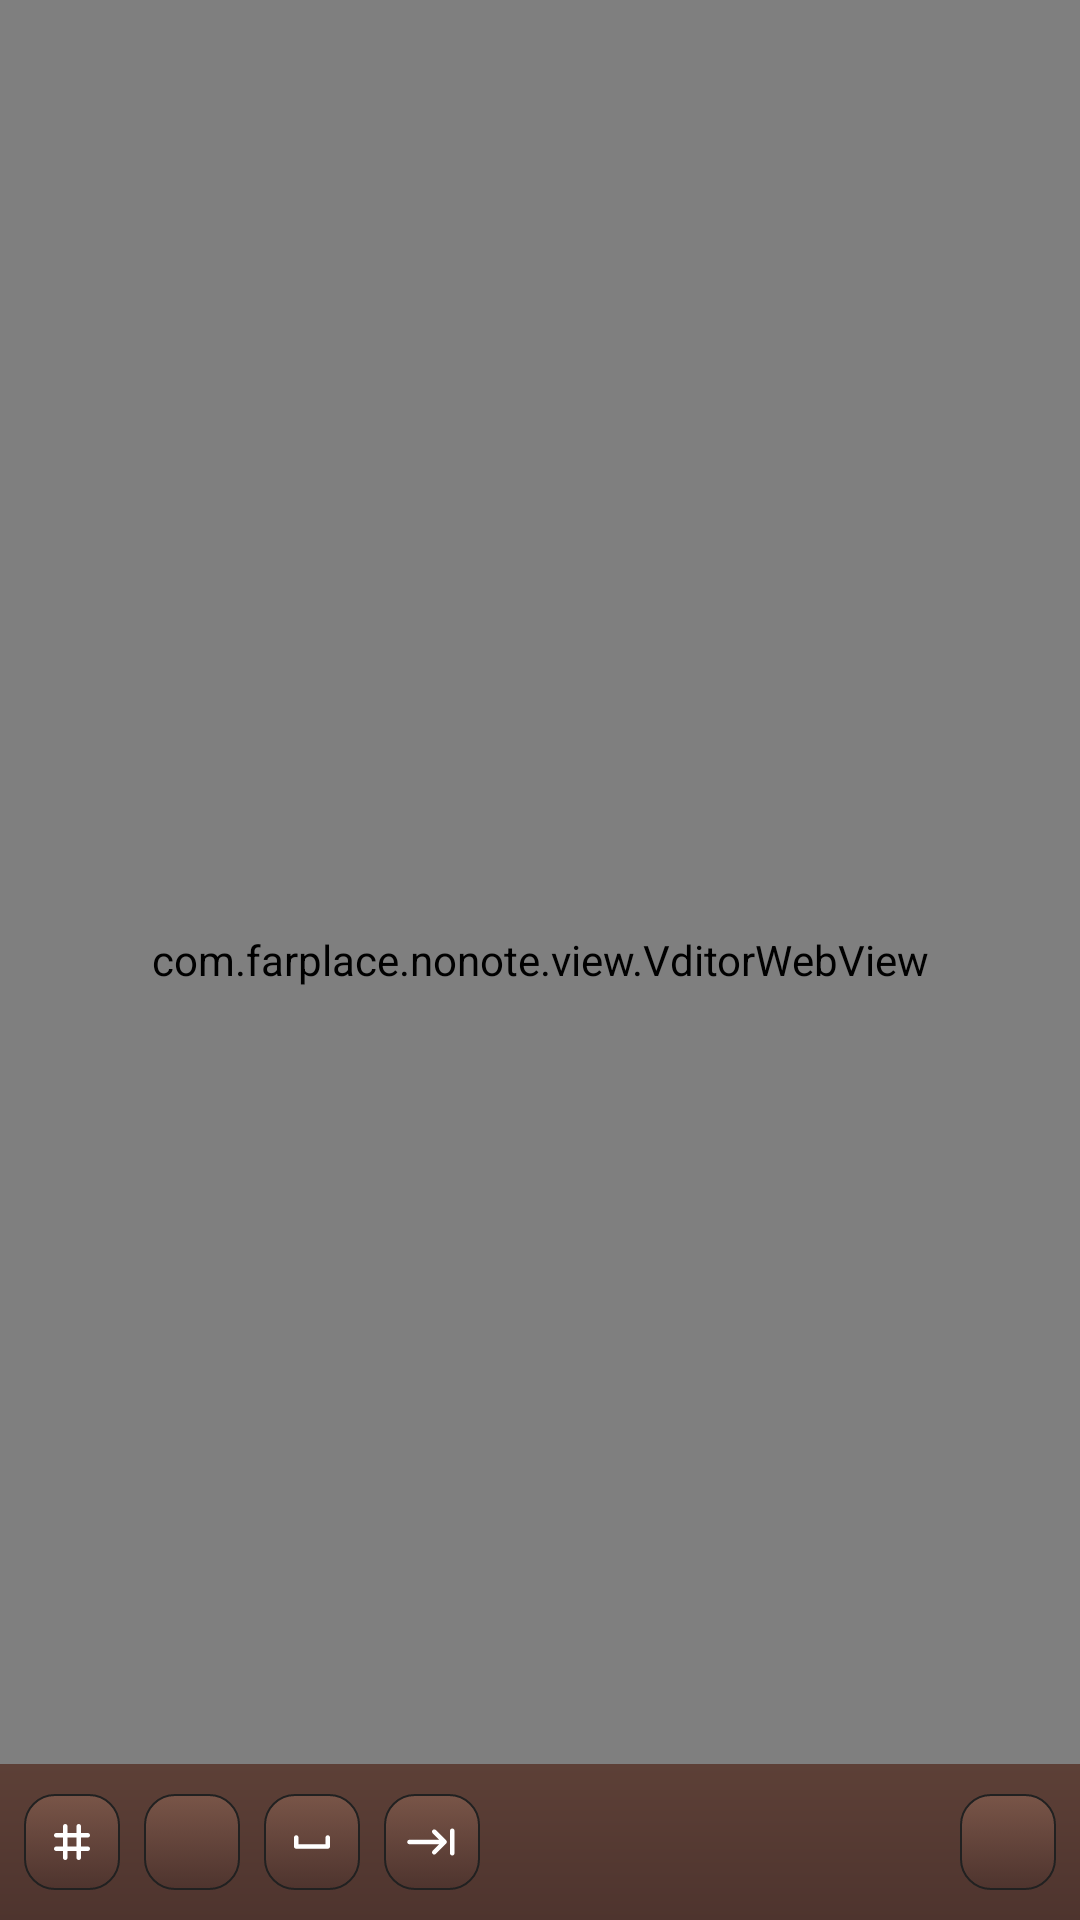

Screen size 1080*1920. Icon name, then its center in pixels as (x=x, y=y):
keyboard tab: (x=432, y=1842)
space bar: (x=312, y=1842)
tag: (x=72, y=1842)
